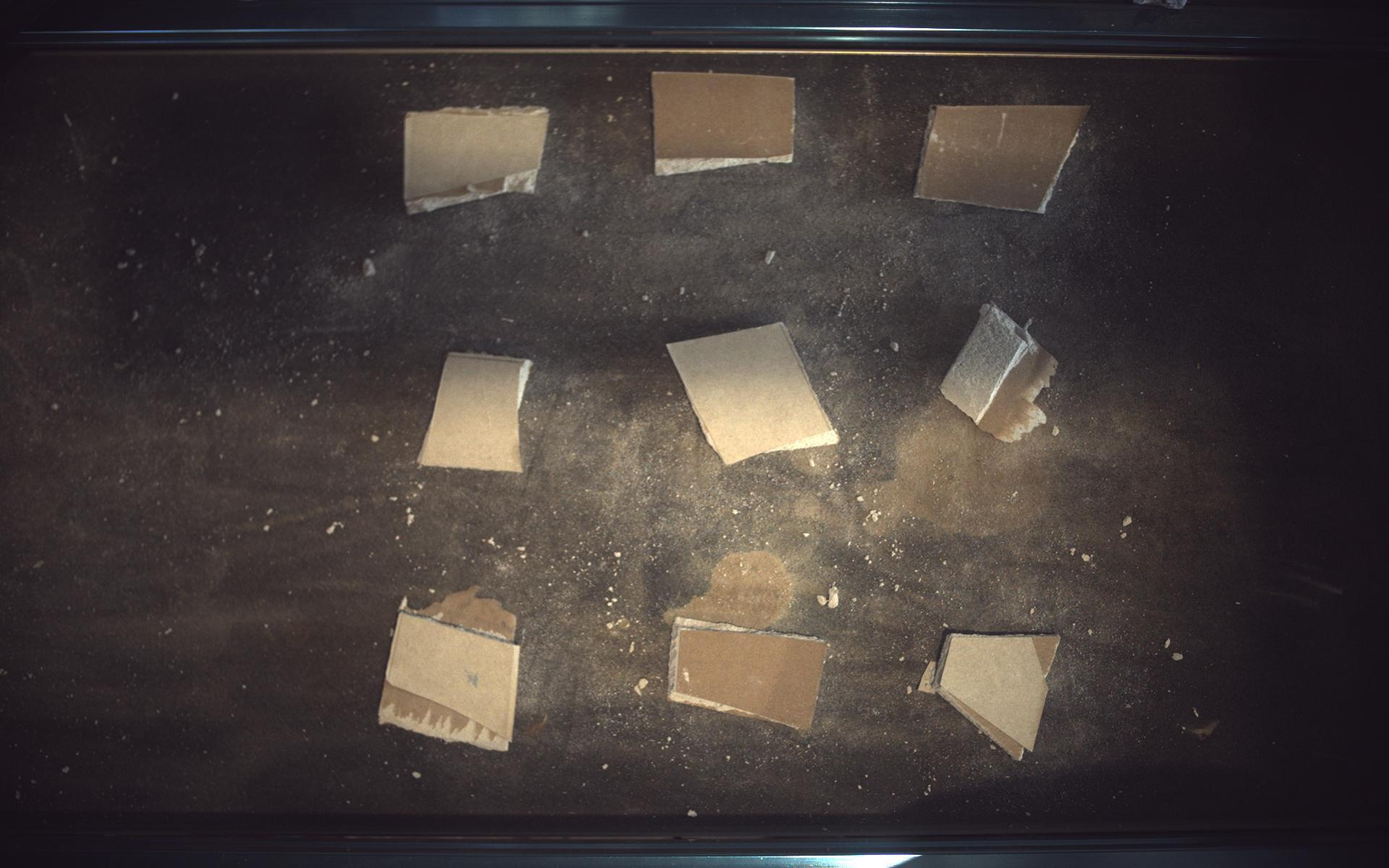gypsum_board: (668, 322, 840, 465), (378, 587, 520, 752), (916, 104, 1090, 213), (921, 635, 1062, 762), (671, 618, 829, 731), (943, 303, 1059, 442), (404, 105, 549, 213), (653, 71, 795, 174), (418, 353, 532, 473)
